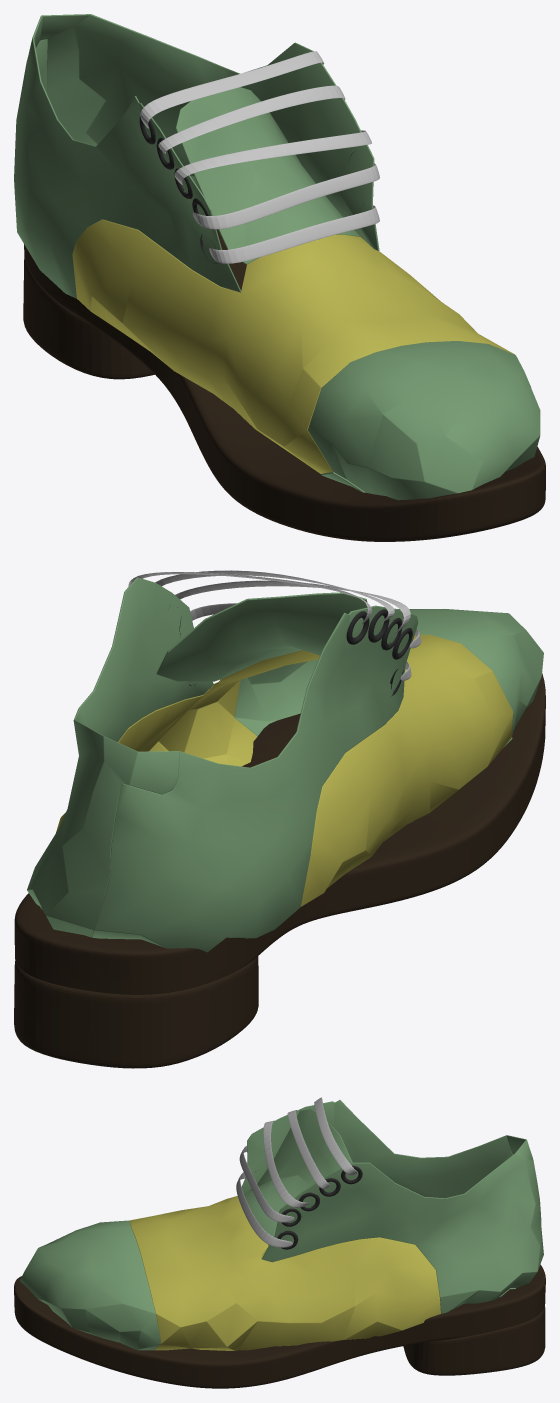
Rendered from za1ve2izquierda.fbx.
3 renders of one model, top to bottom at view 1: azimuth 30°, elevation 25°; view 2: azimuth 150°, elevation 25°; view 3: azimuth 270°, elevation 25°, orthographic. The views are drawn at different scales.
Parts seen in each view (by area): view 1: ZAPATO1_3, Plane, Plane.002, Plane.004, Plane.005, Plane.001, Plane.003; view 2: ZAPATO1_3, Plane, Plane.001, Plane.003, Plane.004; view 3: ZAPATO1_3, Plane, Plane.001, Plane.004, Plane.003, Plane.005, Plane.002.
Part boxes in pixels (x1=…): ZAPATO1_3: x1=14, y1=14, x2=540, y2=500; Plane: x1=23, y1=229, x2=545, y2=541; Plane.002: x1=193, y1=163, x2=379, y2=229; Plane.004: x1=140, y1=51, x2=324, y2=128; Plane.005: x1=209, y1=205, x2=379, y2=263; Plane.001: x1=174, y1=130, x2=371, y2=184; Plane.003: x1=158, y1=85, x2=345, y2=153; ZAPATO1_3: x1=27, y1=577, x2=543, y2=952; Plane: x1=14, y1=673, x2=545, y2=1068; Plane.001: x1=175, y1=580, x2=410, y2=634; Plane.003: x1=155, y1=570, x2=394, y2=622; Plane.004: x1=128, y1=572, x2=371, y2=624; ZAPATO1_3: x1=20, y1=1100, x2=543, y2=1350; Plane: x1=14, y1=1264, x2=545, y2=1388; Plane.001: x1=263, y1=1120, x2=309, y2=1207; Plane.004: x1=314, y1=1097, x2=356, y2=1175; Plane.003: x1=287, y1=1110, x2=329, y2=1189; Plane.005: x1=236, y1=1172, x2=292, y2=1247; Plane.002: x1=239, y1=1145, x2=294, y2=1222.
Bounding box in the file's own units: 174 × 204 × 447.
